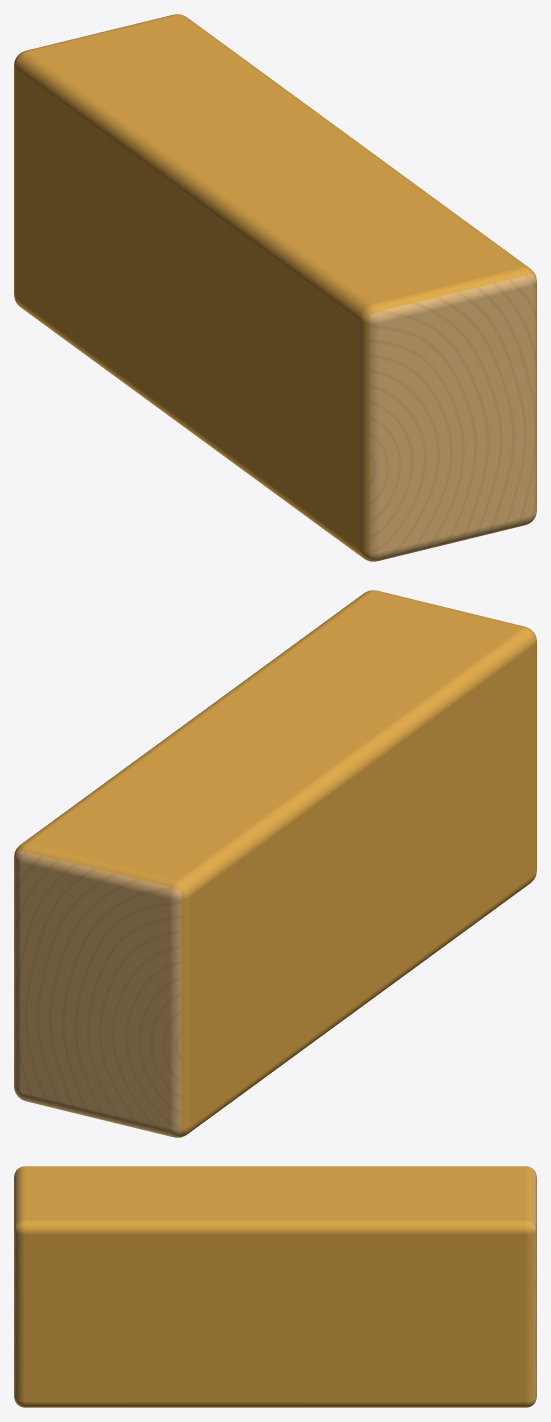
Rendered from source.glb.
The picture shows the model from 3 angles, top to bottom: view 1: azimuth 30°, elevation 25°; view 2: azimuth 150°, elevation 25°; view 3: azimuth 270°, elevation 25°; orthographic projection. The views are drawn at different scales.
Visible parts, largest first — view 1: Block_Paint_Left, Block_Paint_Top, Block_Wood_End_Front; view 2: Block_Paint_Left, Block_Paint_Top, Block_Wood_End_Back; view 3: Block_Painted_Body, Block_Paint_Top, Block_Wood_End_Front, Block_Wood_End_Back, Block_Paint_Bottom.
Boxes of the visible parts, <box> form: Block_Paint_Left: <box>14,56,369,559</box>; Block_Paint_Top: <box>17,14,533,314</box>; Block_Wood_End_Front: <box>369,274,536,560</box>; Block_Paint_Left: <box>181,632,536,1135</box>; Block_Paint_Top: <box>17,590,533,890</box>; Block_Wood_End_Back: <box>14,850,181,1136</box>; Block_Painted_Body: <box>17,1226,533,1407</box>; Block_Paint_Top: <box>17,1166,533,1226</box>; Block_Wood_End_Front: <box>14,1170,18,1404</box>; Block_Wood_End_Back: <box>532,1170,536,1404</box>; Block_Paint_Bottom: <box>18,1405,532,1407</box>.
Size of the model in its own units: 0.052 by 0.073 by 0.185.
Materials: 2 (1 with a texture image).
